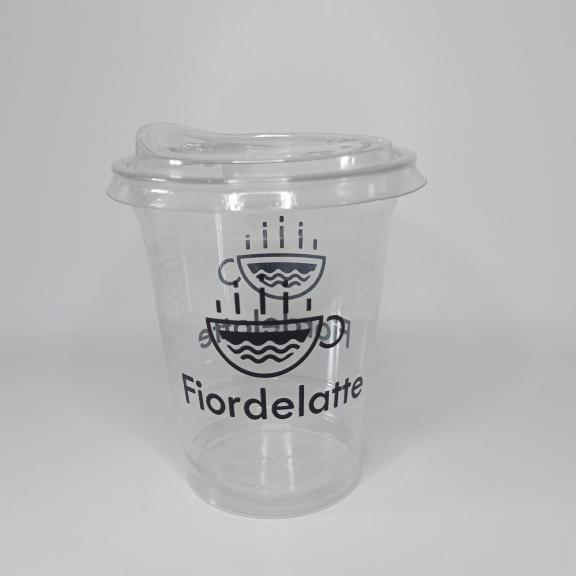Plastik: (108, 124, 425, 516)
